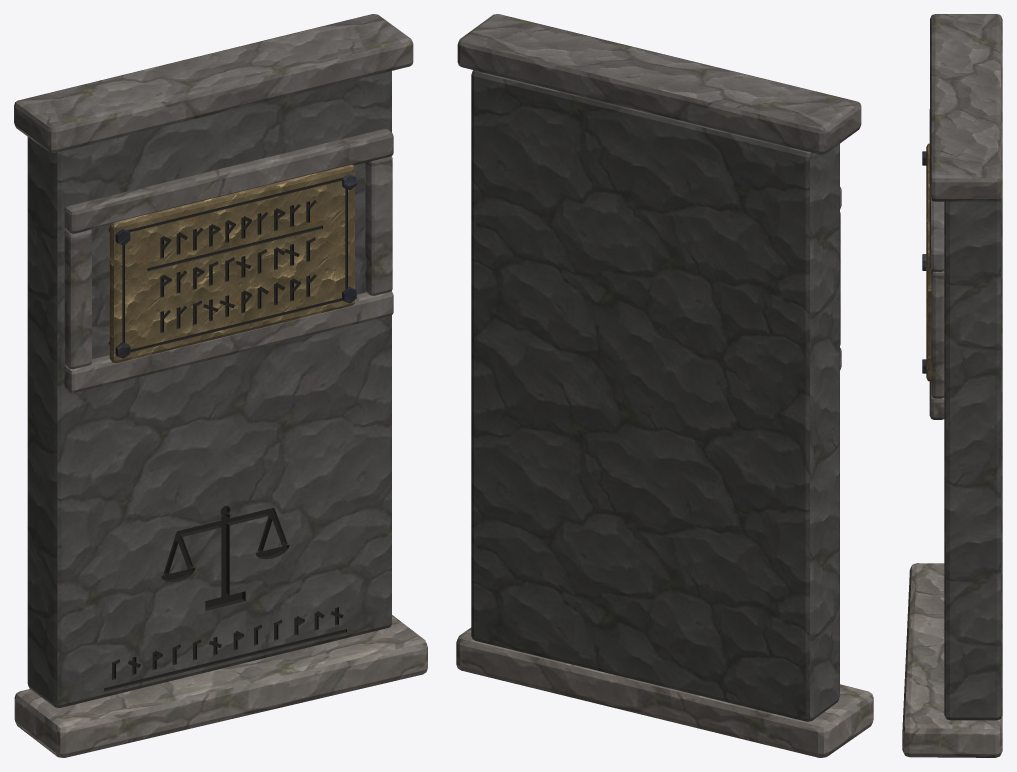
The model's file is bv_name_plaque.glb.
The picture shows the model from 3 angles, left to right: view 1: azimuth 30°, elevation 25°; view 2: azimuth 150°, elevation 25°; view 3: azimuth 270°, elevation 25°; orthographic projection. The views are drawn at different scales.
Parts seen in each view (by area): view 1: model; view 2: model; view 3: model.
Part boxes in pixels (x1=…): model: x1=14, y1=14, x2=427, y2=757; model: x1=456, y1=14, x2=873, y2=757; model: x1=902, y1=14, x2=1002, y2=757.
Bounding box in the file's own units: 1.09 × 1.77 × 0.2757.
6 materials, 5 textured.
